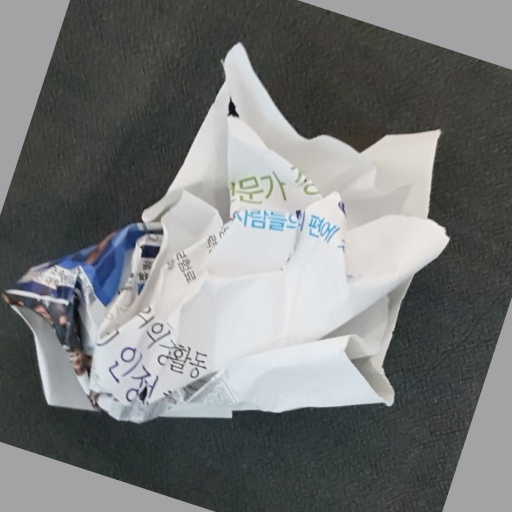Paper_3: (17, 36, 478, 457)
